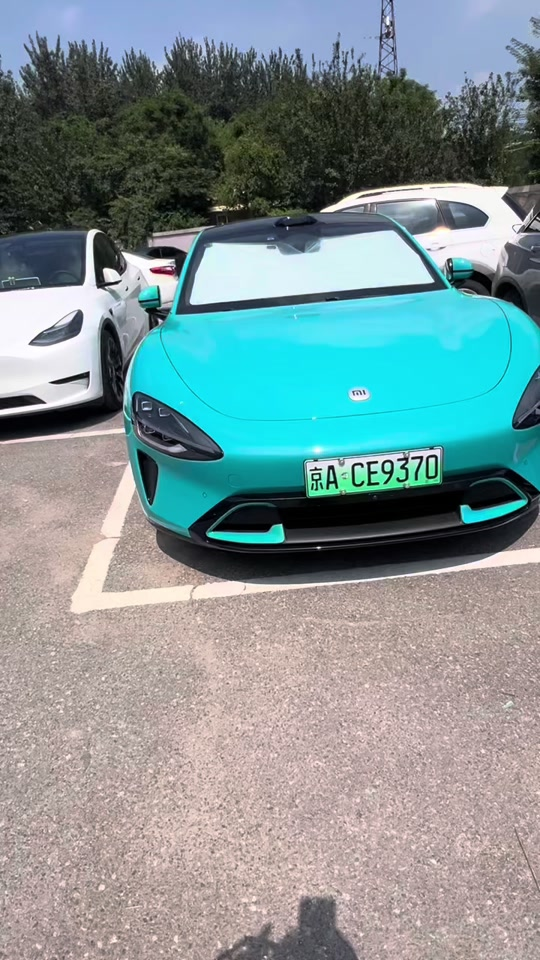other: (0, 224, 154, 412)
su7: (118, 206, 540, 566)
